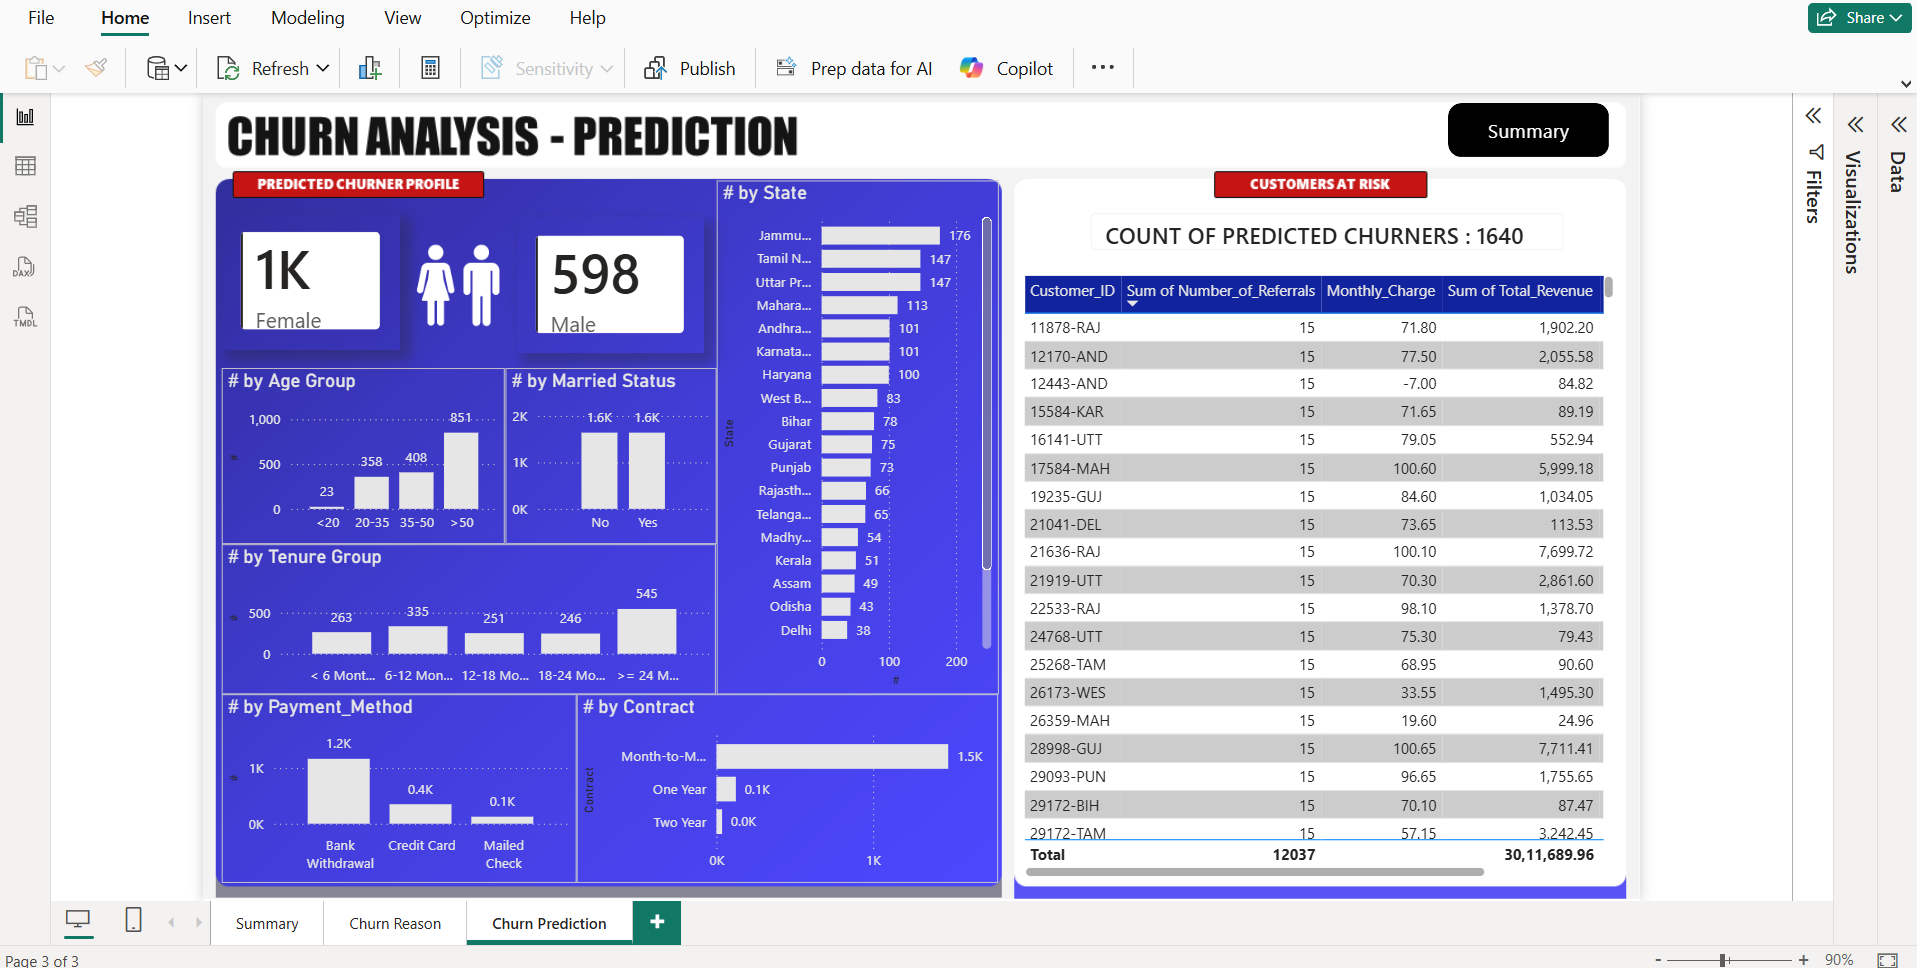

Layout of this report page (visuals, bound fields, positions):
{"tool":"powerbi","page":{"name":"Churn Prediction","canvas":[1280,720],"ordinal":2},"visuals":[{"type":"tableEx","fields":{"Values":["Predictions.Customer_ID","Sum(Predictions.Number_of_Referrals)","Predictions.Monthly_Charge","Sum(Predictions.Total_Revenue)","Sum(Predictions.Total_Refunds)"]},"box":[726.3,158,535.7,545.3],"z":0},{"type":"cardVisual","fields":{"Data":["tbl_Measures.Title Predicted Churner"]},"box":[773.9,90.6,455.6,67.2],"z":1000},{"type":"cardVisual","fields":{"Data":["tbl_Measures.Count predicted churner"]},"box":[16.9,107.4,158,121.9],"z":2000},{"type":"cardVisual","fields":{"Data":["tbl_Measures.Count predicted churner"]},"box":[279.9,109.8,166.5,121.9],"z":3000},{"type":"clusteredColumnChart","fields":{"Y":["CountNonNull(Predictions.Customer_ID)"],"Category":["Mapping_AgeGrp.Age Group"]},"box":[16.9,244.9,252.1,156.8],"z":4000},{"type":"clusteredColumnChart","fields":{"Y":["CountNonNull(Predictions.Customer_ID)"],"Category":["prod_Services.Married"]},"box":[269,244.9,188.2,156.8],"z":5000},{"type":"clusteredColumnChart","fields":{"Y":["CountNonNull(Predictions.Customer_ID)"],"Category":["mapping_TenureGrp.Tenure Group"]},"box":[16.9,401.7,440.4,133.9],"z":6000},{"type":"clusteredBarChart","fields":{"Y":["CountNonNull(Predictions.Customer_ID)"],"Category":["Predictions.Contract"]},"box":[333,535.7,375.2,167.7],"z":7000},{"type":"clusteredBarChart","fields":{"Y":["CountNonNull(Predictions.Customer_ID)"],"Category":["Predictions.State"]},"box":[457.2,78.4,250.9,457.2],"z":8000},{"type":"clusteredColumnChart","fields":{"Y":["CountNonNull(Predictions.Customer_ID)"],"Category":["Predictions.Payment_Method"]},"box":[16.9,535.7,316.1,167.7],"z":9000},{"type":"image","box":[174.9,124.3,105,91.7],"z":10000},{"type":"shape","box":[1108.7,8.4,143.6,48.3],"z":11000}]}

Visuals, with their boxes on the page's 1280x720 design canvas (x1, y1, x2, y2). These are canvas units, not pixel positions in the 1917x968 screenshot, which may show the page scaled, cropped or inside an application window:
tableEx - Predictions.Customer_ID x Sum(Predictions.Number_of_Referrals): <region>726, 158, 1262, 703</region>
cardVisual - tbl_Measures.Title Predicted Churner: <region>774, 91, 1230, 158</region>
cardVisual - tbl_Measures.Count predicted churner: <region>17, 107, 175, 229</region>
cardVisual - tbl_Measures.Count predicted churner: <region>280, 110, 446, 232</region>
clusteredColumnChart - CountNonNull(Predictions.Customer_ID) x Mapping_AgeGrp.Age Group: <region>17, 245, 269, 402</region>
clusteredColumnChart - CountNonNull(Predictions.Customer_ID) x prod_Services.Married: <region>269, 245, 457, 402</region>
clusteredColumnChart - CountNonNull(Predictions.Customer_ID) x mapping_TenureGrp.Tenure Group: <region>17, 402, 457, 536</region>
clusteredBarChart - CountNonNull(Predictions.Customer_ID) x Predictions.Contract: <region>333, 536, 708, 703</region>
clusteredBarChart - CountNonNull(Predictions.Customer_ID) x Predictions.State: <region>457, 78, 708, 536</region>
clusteredColumnChart - CountNonNull(Predictions.Customer_ID) x Predictions.Payment_Method: <region>17, 536, 333, 703</region>
image: <region>175, 124, 280, 216</region>
shape: <region>1109, 8, 1252, 57</region>
